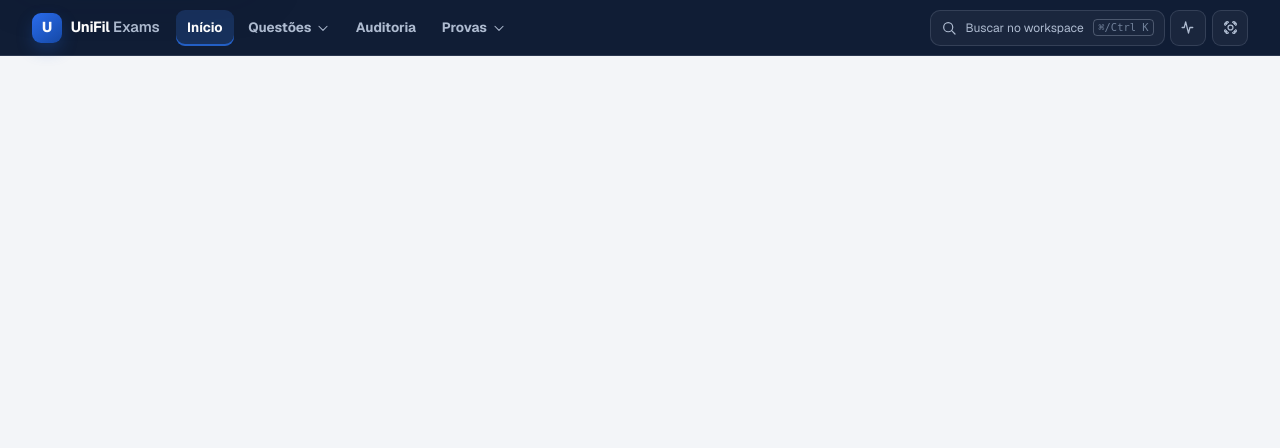
Test: app shell top navigation › opens grouped menus, closes them with Escape, and cycles the theme
The image size is (1280, 448).
Click the button "Questões": (289, 28) 237,10 -> 342,46
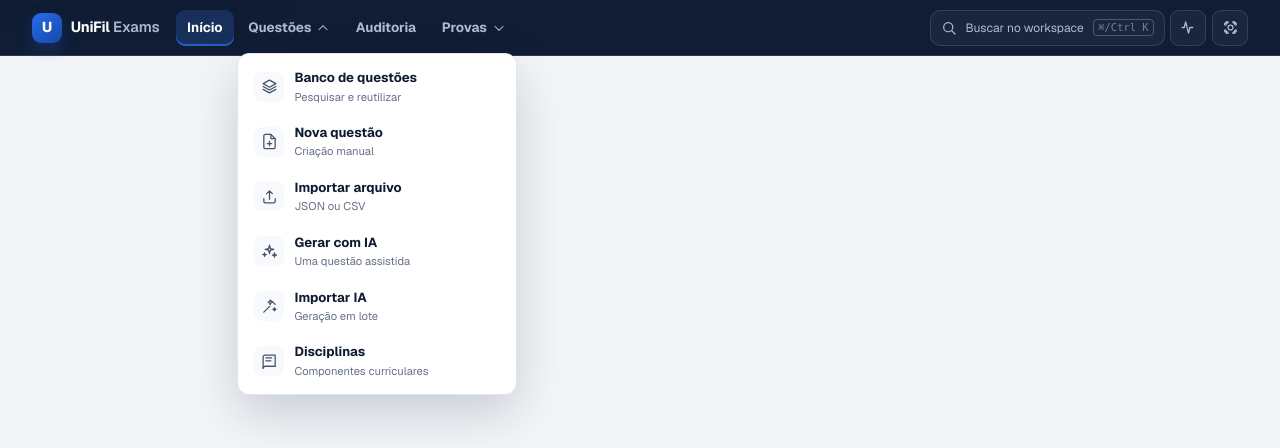
Expected: the button "Questões" is expanded, 237,10 -> 342,46
Press Escape
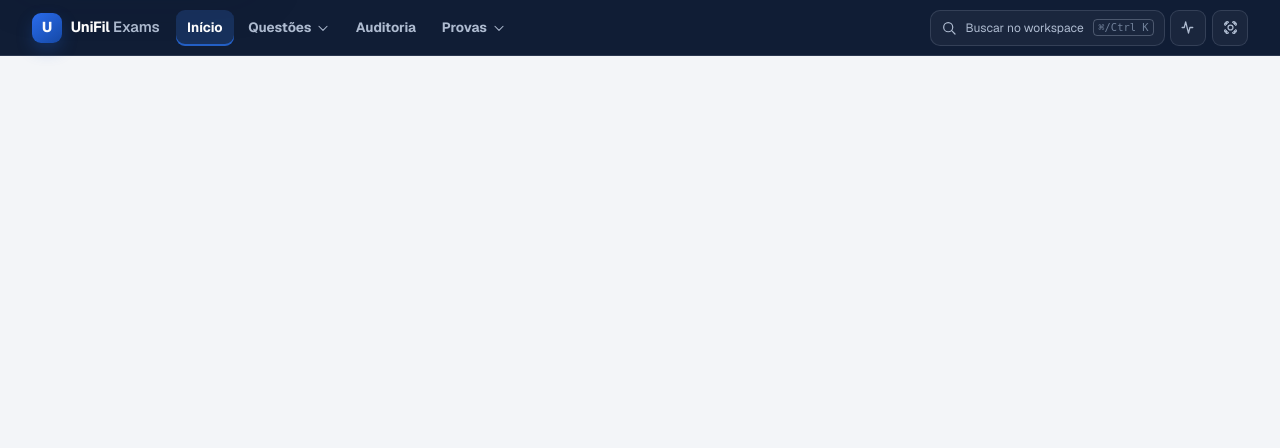
Expected: the link "Nova questão" is gone
Click the button named "Tema: Sistema": (1188, 28) 1170,10 -> 1206,46
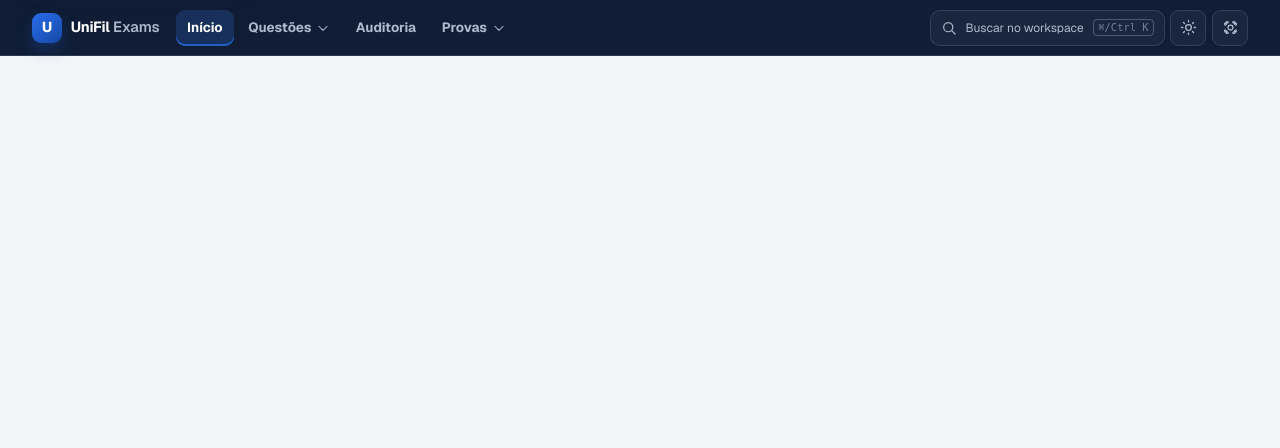
Expected: the button named "Tema: Claro" is shown, 1170,10 -> 1206,46
